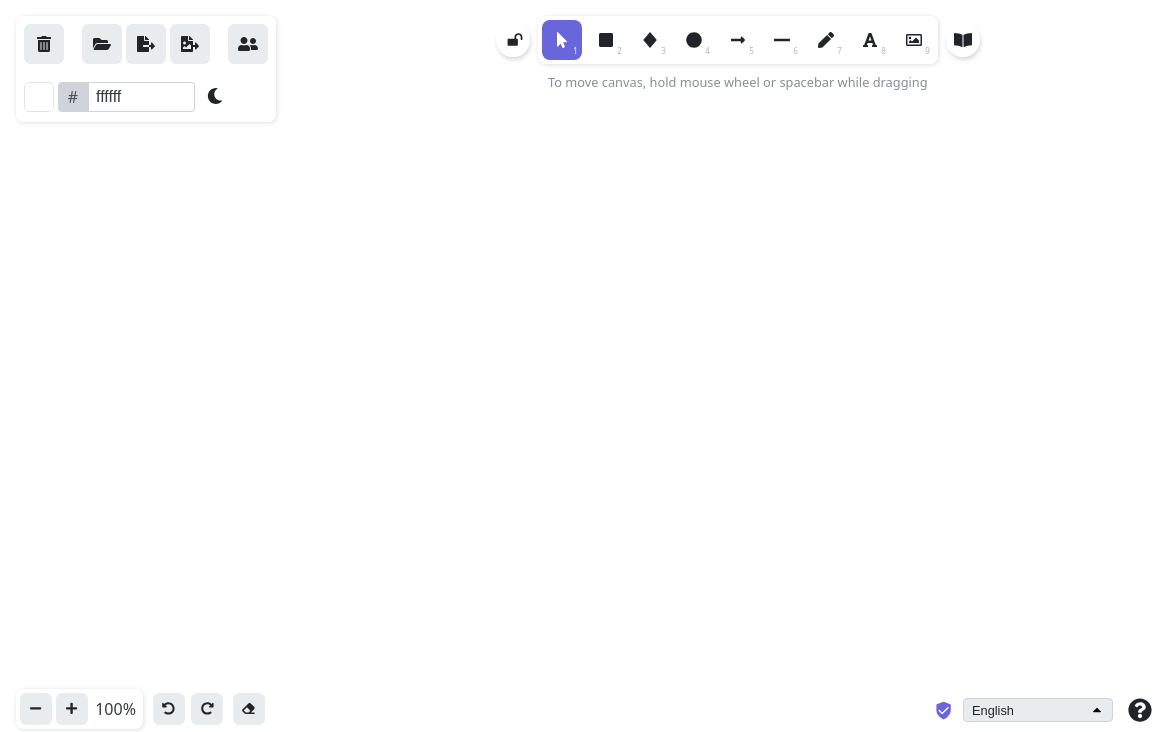
textWysiwyg › start text editing › should edit text under cursor when clicked with text tool
This screenshot has width=1176, height=732.
Step 1. Click the radio button labelled "8" → (874,44), box x1=863 y1=32 x2=886 y2=56
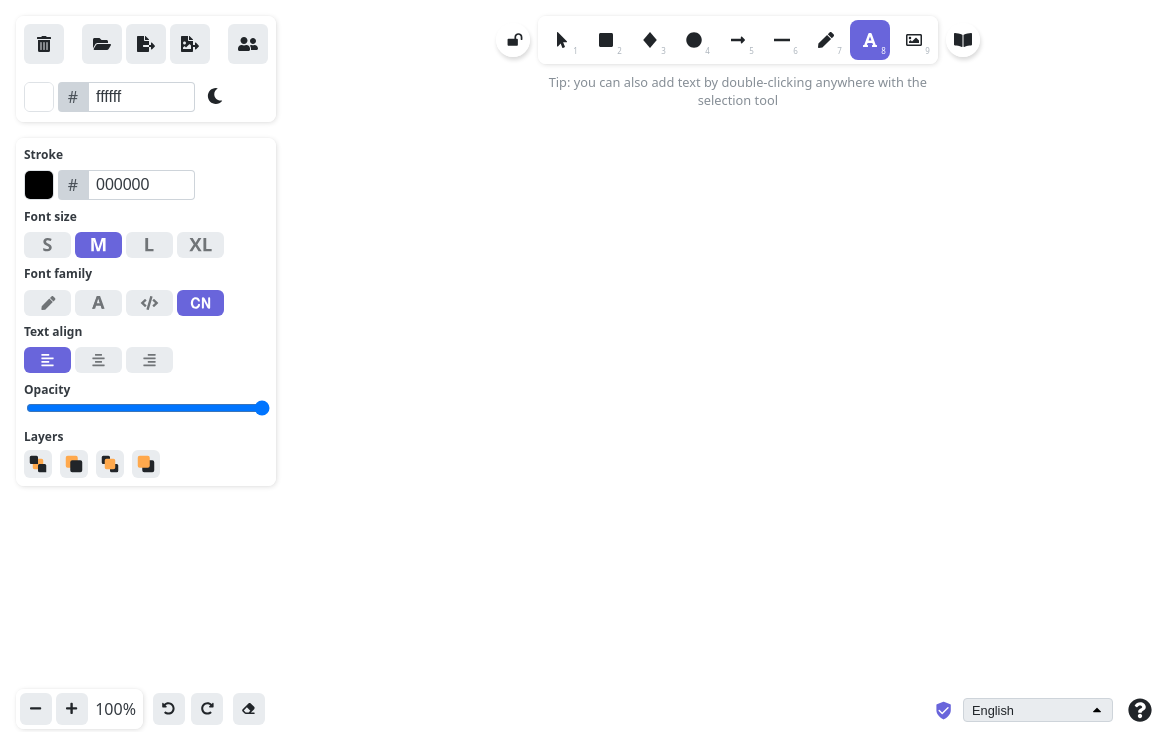
Step 2. Press the mouse on the drawing "Drawing canvas" → (588,372), box x1=12 y1=12 x2=1164 y2=731
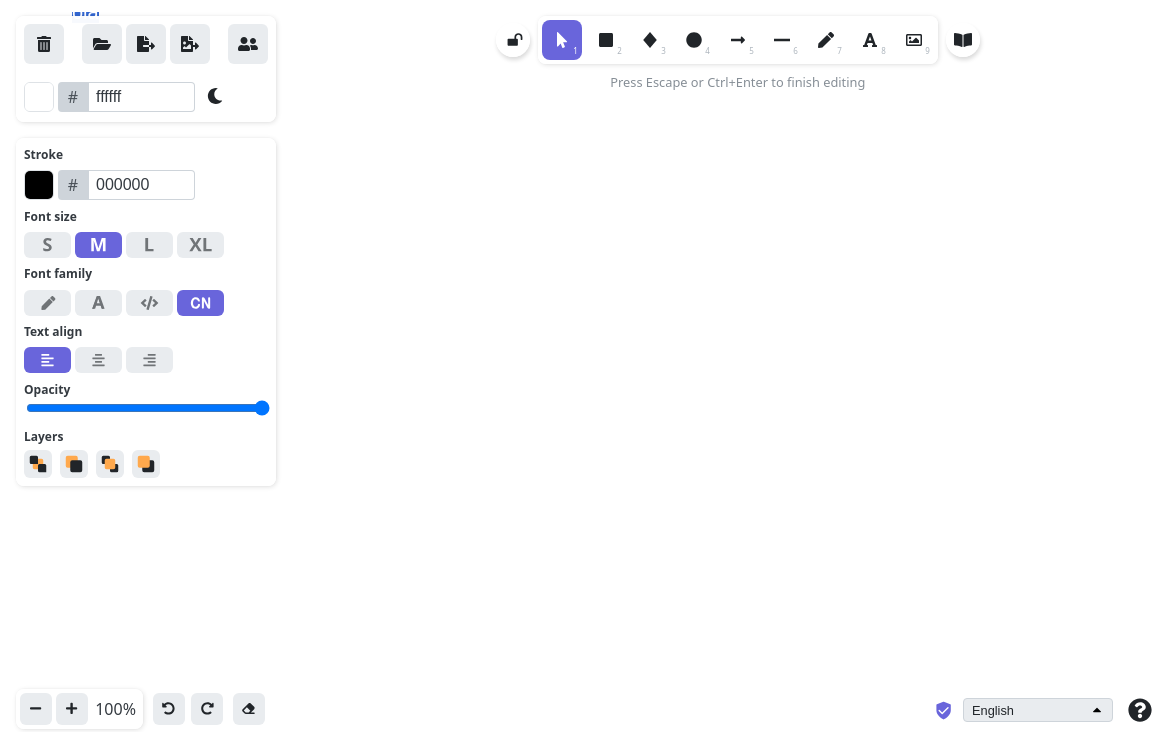
Expected: the text box is shown, x1=72 y1=12 x2=172 y2=112
